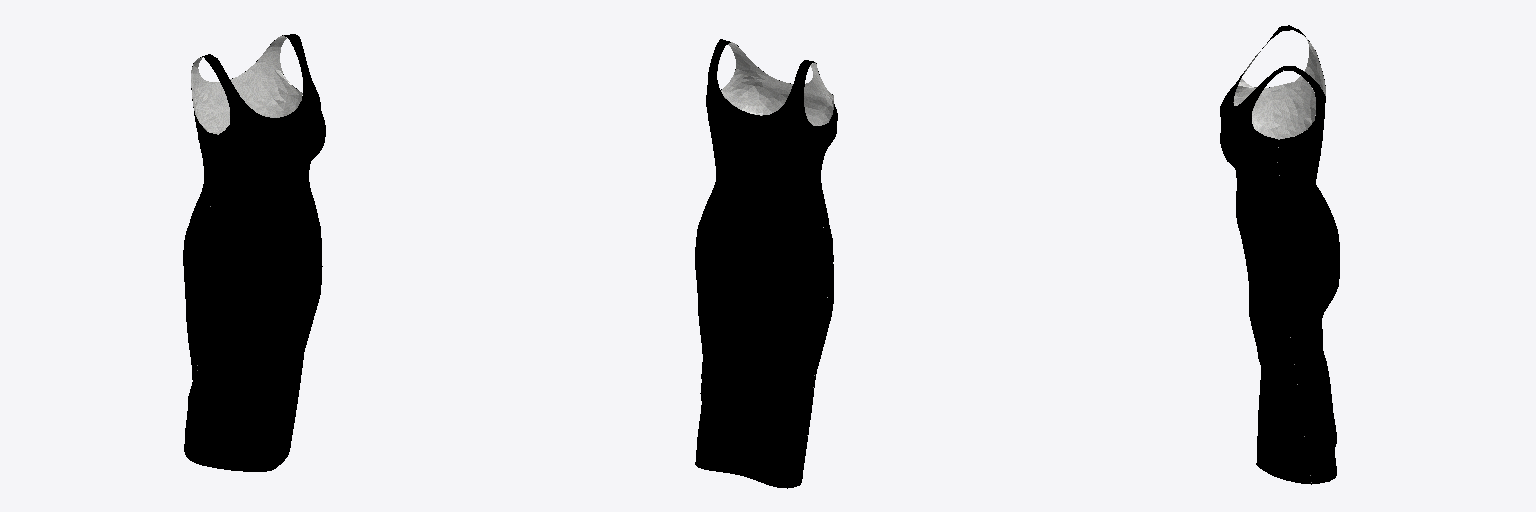
3 views of the same model, side by side, from view 1: azimuth 30°, elevation 25°; view 2: azimuth 150°, elevation 25°; view 3: azimuth 270°, elevation 25° (orthographic).
Bounding box in the file's own units: 326 × 1030 × 271.
Materials: 3 (2 with a texture image).